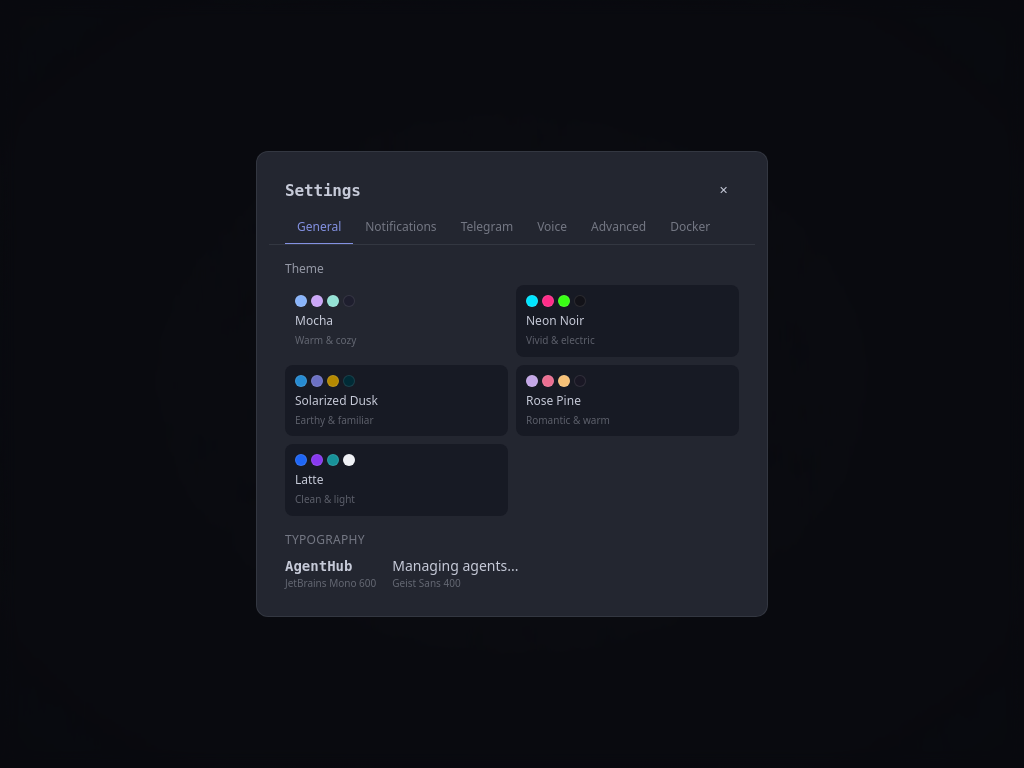
Test: SettingsPanel › shows success feedback after export
The width and height of the screenshot is (1024, 768).
What coordinates should you click on to do the following:
click the button "advanced"
I would click on:
 (619, 228)
Its box is [579, 211, 658, 245].
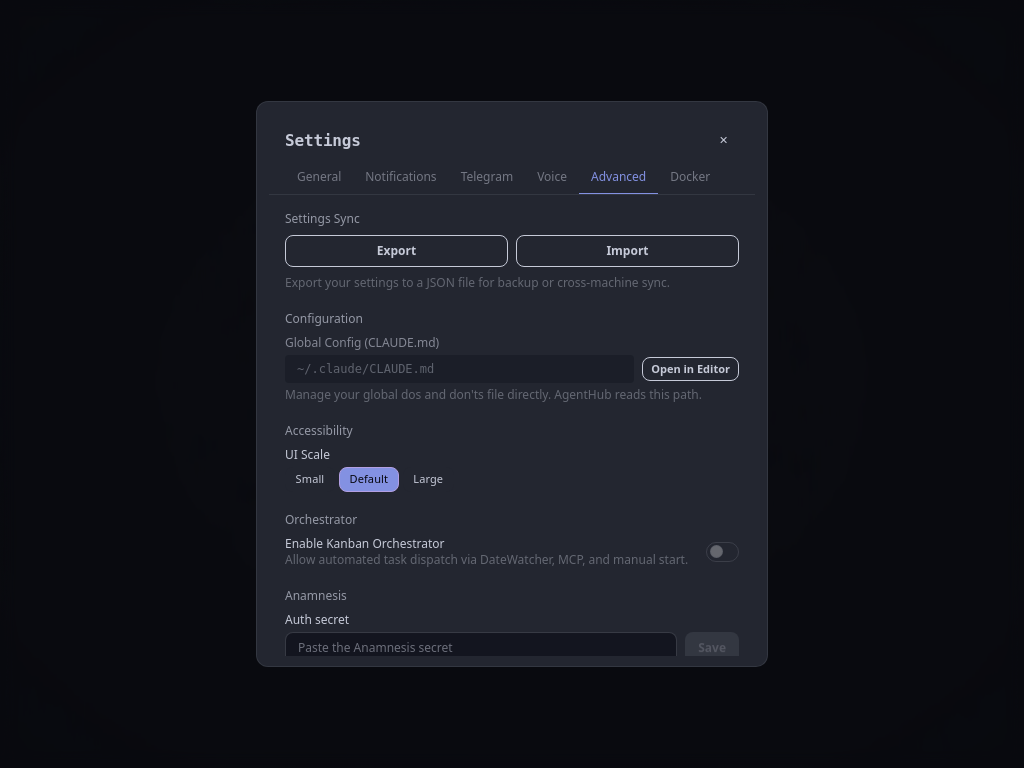
What coordinates should you click on to do the following:
click the button with test id "settings-export"
I would click on:
 (396, 251)
Its box is [285, 235, 508, 267].
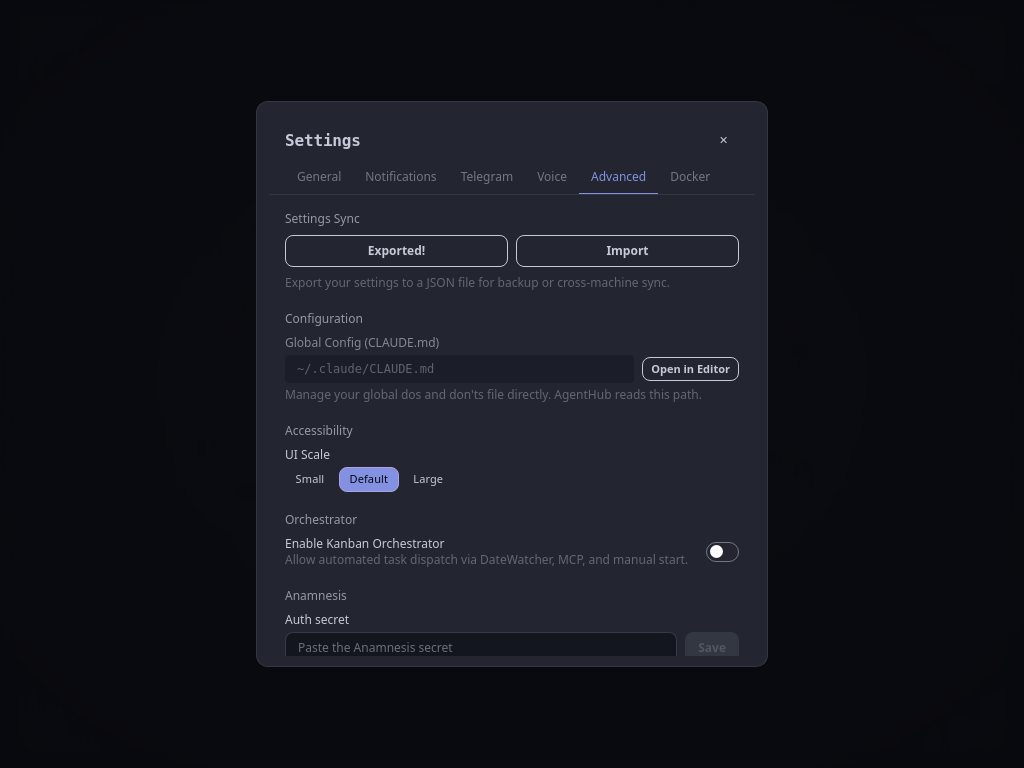
Now the button "Exported!" is shown, box [285, 235, 508, 267]
